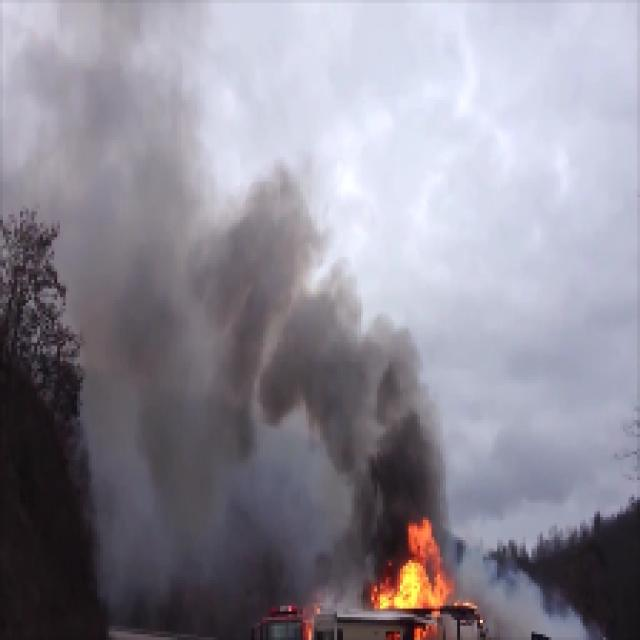fire: (380, 561, 438, 617)
smoke: (211, 261, 342, 415), (358, 351, 434, 523)
